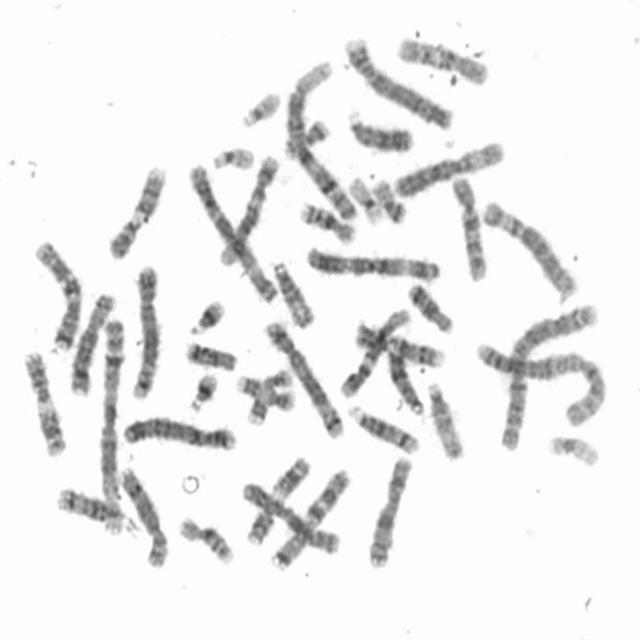A1: (282, 51, 362, 224), (94, 309, 128, 533)
A2: (492, 296, 602, 453), (473, 328, 611, 432)
A3: (182, 154, 281, 305), (300, 237, 444, 284)
B4: (339, 29, 457, 132), (118, 408, 239, 452)
B5: (258, 312, 347, 440), (125, 258, 163, 400)
C10: (392, 29, 492, 87), (446, 167, 492, 284)
C11: (241, 448, 313, 547), (17, 343, 70, 459)
C12: (214, 146, 282, 269), (334, 300, 414, 400)
C6: (477, 193, 581, 299), (389, 133, 509, 200)
C7: (268, 462, 355, 573), (28, 232, 85, 353)
C8: (114, 459, 170, 570), (64, 284, 119, 397)
C9: (103, 156, 169, 261), (349, 315, 447, 369)
D13: (343, 102, 417, 154), (383, 334, 428, 416)
D14: (344, 398, 423, 457), (52, 480, 126, 530)
D15: (423, 374, 468, 463), (267, 253, 318, 330)
E16: (174, 509, 238, 566), (294, 193, 358, 244)
E17: (241, 362, 296, 427), (231, 367, 298, 413)
E18: (404, 275, 457, 335), (180, 333, 240, 373)
F19: (542, 428, 603, 470), (344, 168, 386, 226)
F20: (279, 111, 333, 160), (368, 170, 411, 224)
G21: (184, 291, 228, 336), (183, 365, 221, 413)
G22: (236, 84, 283, 128), (206, 138, 258, 172)
X: (236, 474, 344, 556), (362, 448, 417, 570)
